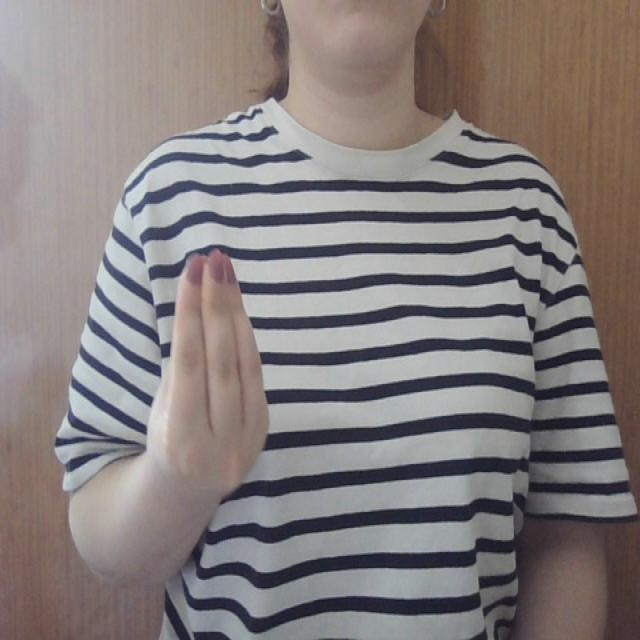iyi: (150, 251, 274, 488)
